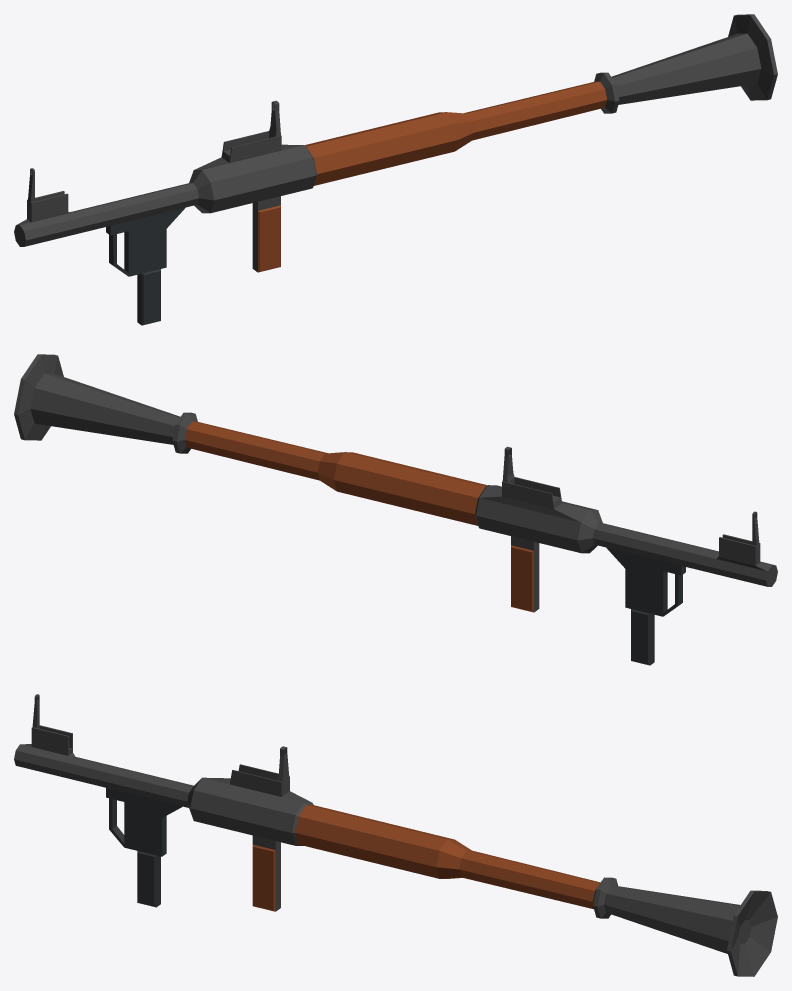
File: launcher.glb
3 views of the same model, one above another, from view 1: azimuth 30°, elevation 25°; view 2: azimuth 150°, elevation 25°; view 3: azimuth 330°, elevation 25° (orthographic).
Visible parts, largest first — view 1: Cylinder.009; view 2: Cylinder.009; view 3: Cylinder.009.
Boxes of the visible parts, <box> form: Cylinder.009: <box>14,14,777,325</box>; Cylinder.009: <box>14,354,777,665</box>; Cylinder.009: <box>14,694,777,976</box>.
Size of the model in its own units: 8.86 by 2.13 by 0.9828.
